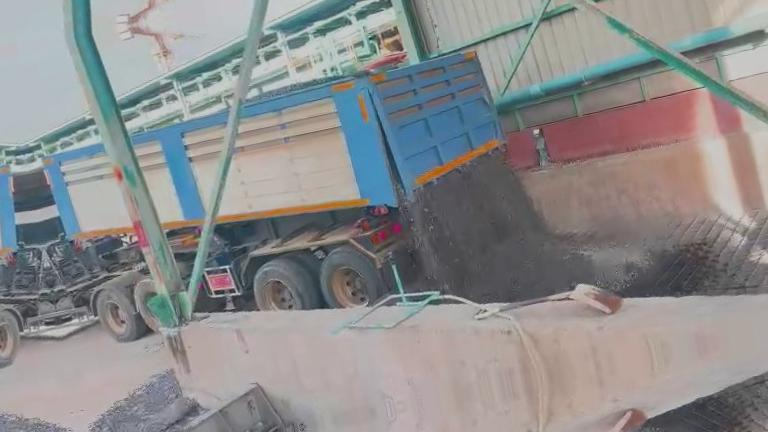gravel: (406, 151, 647, 300), (82, 370, 198, 432)
